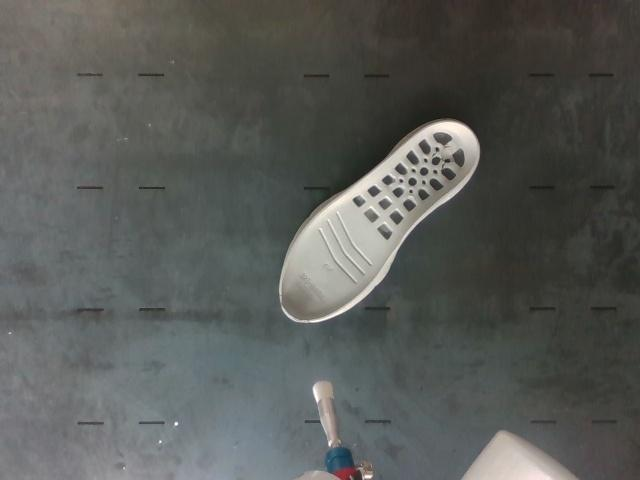shoes: (282, 122, 478, 320)
